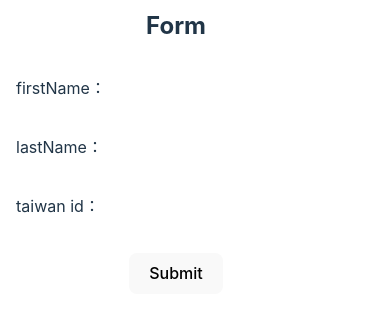
Scenario: form input testing › fail to all input with empty
The width and height of the screenshot is (365, 311).
Click the button "Submit". click: {"x": 176, "y": 273}
box: [129, 252, 223, 294]
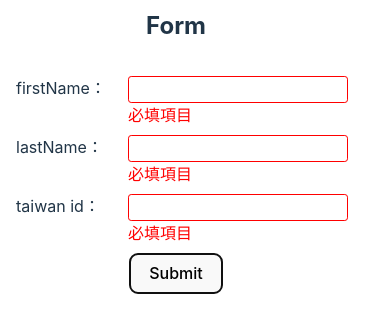
Check: the text with test id "firstName-error" reads "必填項目", box [128, 105, 192, 125]
Check: the text with test id "lastName-error" reads "必填項目", box [128, 164, 192, 184]
Check: the text with test id "twId-error" reads "必填項目", box [128, 222, 192, 242]
